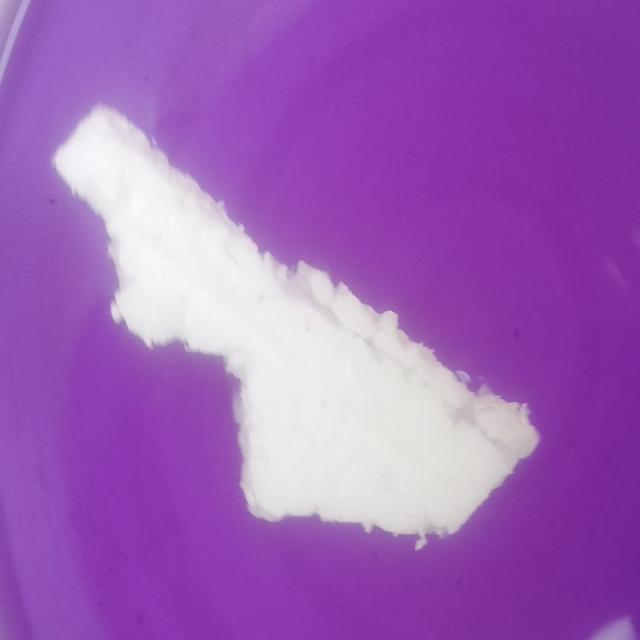thermocoal: (55, 99, 537, 545)
